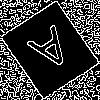A: (25, 25, 82, 82)
